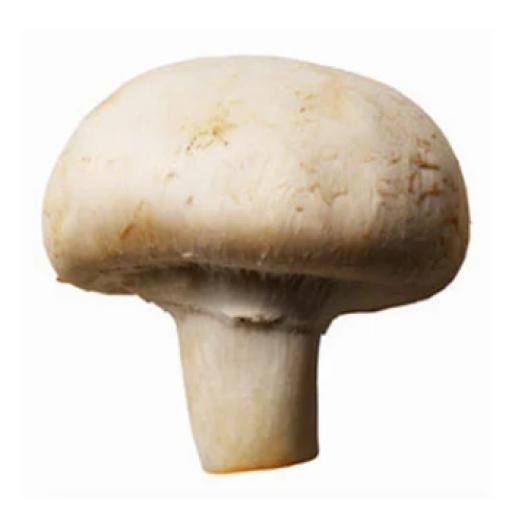Button Mushroom: (37, 51, 477, 477)
